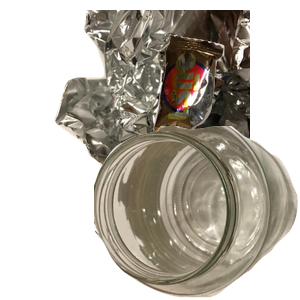glass: (94, 126, 300, 300)
metal: (52, 10, 292, 190)
plastic: (92, 176, 257, 300)
trash: (150, 32, 300, 172)
